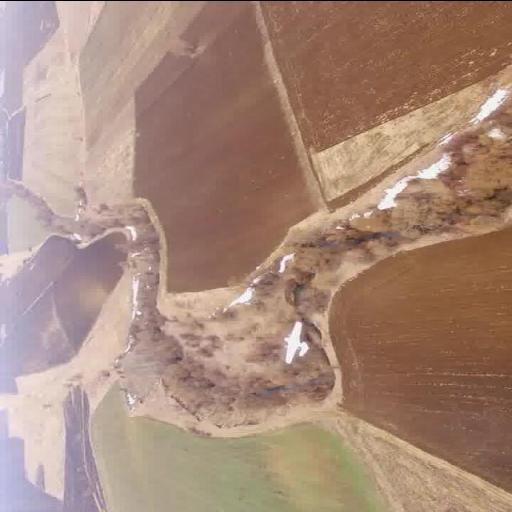uav: (280, 310, 334, 374)
